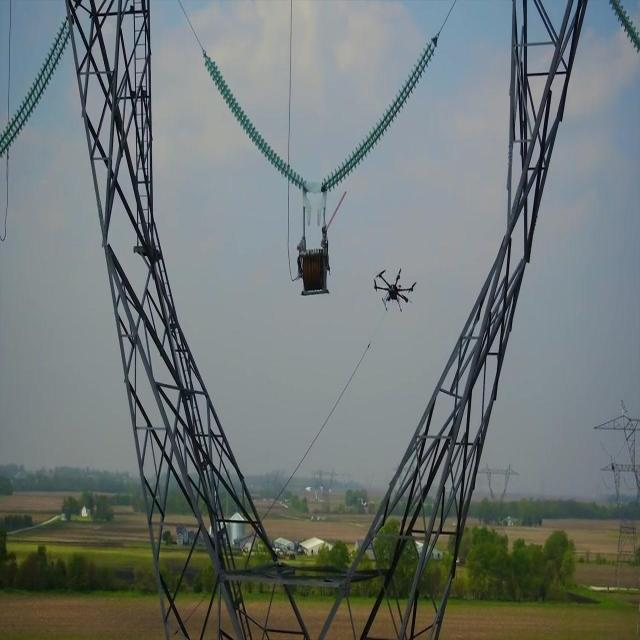drone: (371, 267, 419, 316)
